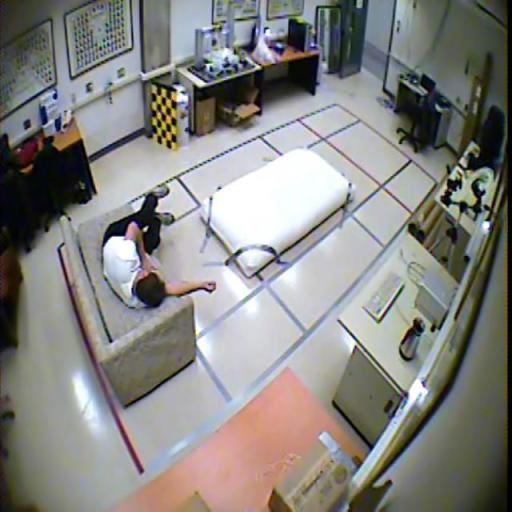Fall: (102, 183, 216, 312)
